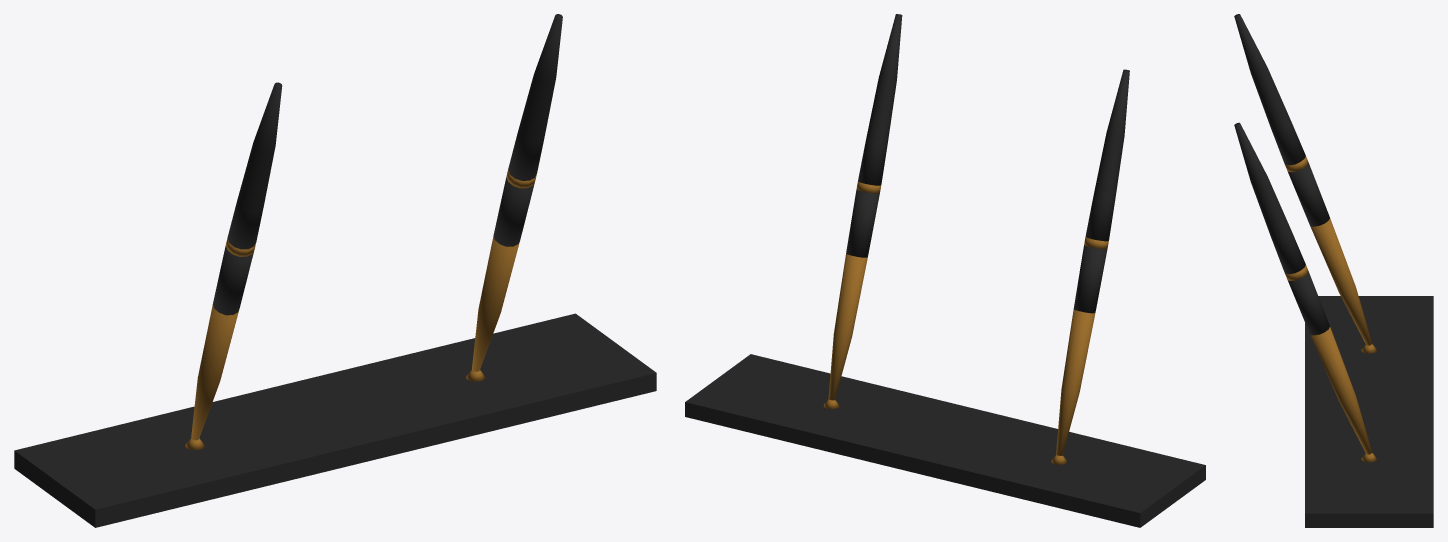
The model's file is pen.obj.
The picture shows the model from 3 angles, left to right: view 1: azimuth 30°, elevation 25°; view 2: azimuth 150°, elevation 25°; view 3: azimuth 270°, elevation 25°; orthographic projection. The views are drawn at different scales.
Visible parts, largest first — view 1: 1_1; view 2: 1_1; view 3: 1_1.
Boxes of the visible parts, <box> form: 1_1: <box>14,14,656,527</box>; 1_1: <box>685,14,1205,527</box>; 1_1: <box>1234,14,1433,527</box>.
Bounding box in the file's own units: 0.2032 × 0.1525 × 0.0787.
